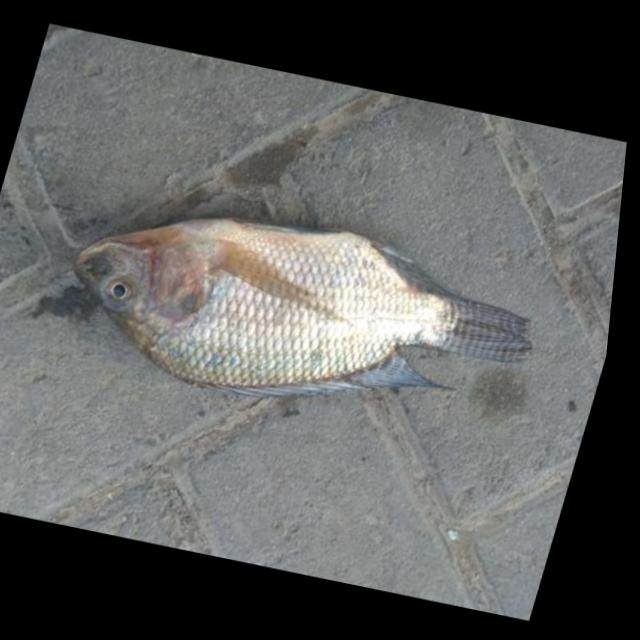Tilapia: (38, 182, 557, 448)
